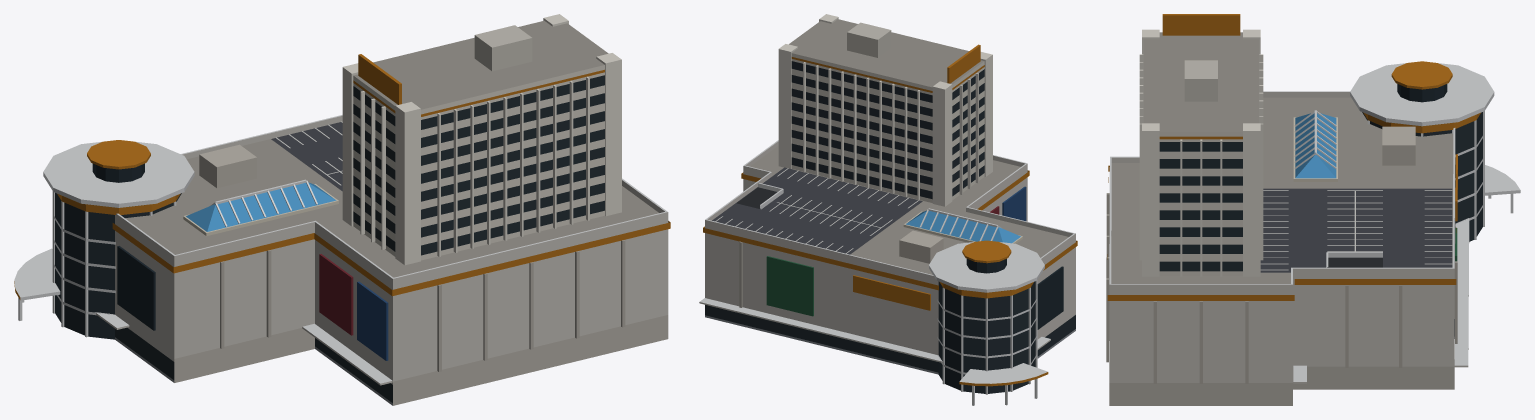
File: mall-pekanbaru-lod0.glb
3 views of the same model, side by side, from view 1: azimuth 30°, elevation 25°; view 2: azimuth 150°, elevation 25°; view 3: azimuth 270°, elevation 25° (orthographic). The views are drawn at different scales.
Parts seen in each view (by area): view 1: mall-pekanbaru_LOD0; view 2: mall-pekanbaru_LOD0; view 3: mall-pekanbaru_LOD0.
Part boxes in pixels (x1,y1,x2,y2): mall-pekanbaru_LOD0: (14, 14, 670, 405); mall-pekanbaru_LOD0: (699, 14, 1077, 405); mall-pekanbaru_LOD0: (1106, 14, 1520, 405).
Size of the model in its own units: 94.77 by 56.1 by 74.65.
